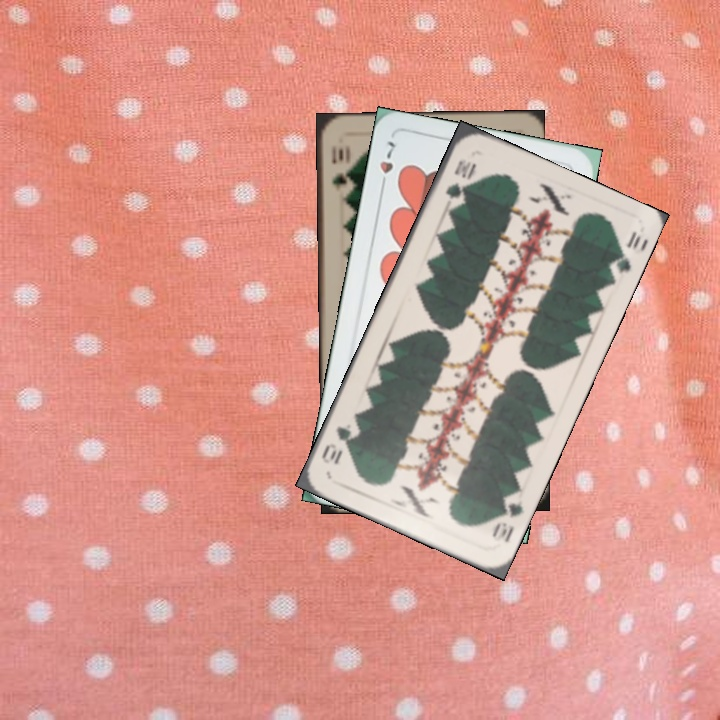G10: (488, 489, 526, 546), (441, 156, 478, 202), (328, 141, 351, 193)
H7: (375, 136, 398, 194)
